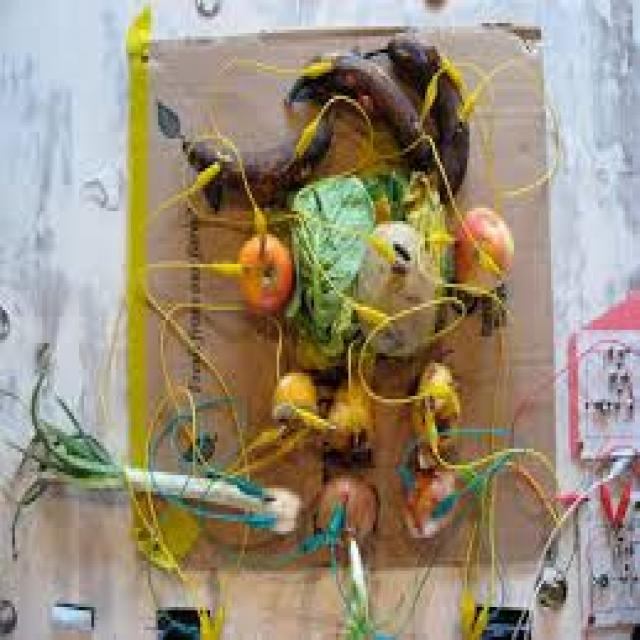organic waste: (0, 380, 121, 554), (284, 43, 438, 171), (360, 27, 464, 195), (289, 182, 376, 350), (180, 109, 329, 191), (353, 221, 438, 356), (124, 462, 296, 528), (452, 198, 514, 297), (368, 165, 442, 247), (284, 290, 354, 370), (311, 472, 371, 548), (234, 224, 286, 310), (395, 455, 455, 528), (408, 356, 460, 436), (321, 363, 376, 432), (267, 363, 319, 422), (344, 541, 373, 637)
